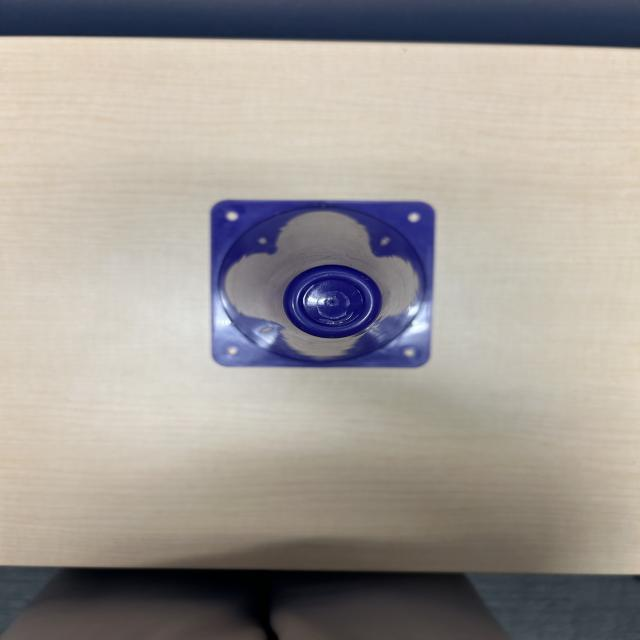purple cone: (205, 193, 438, 375)
